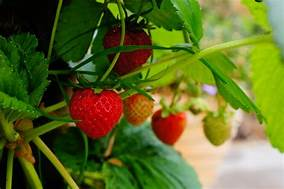Fresa: (66, 81, 127, 144), (149, 105, 189, 149)
